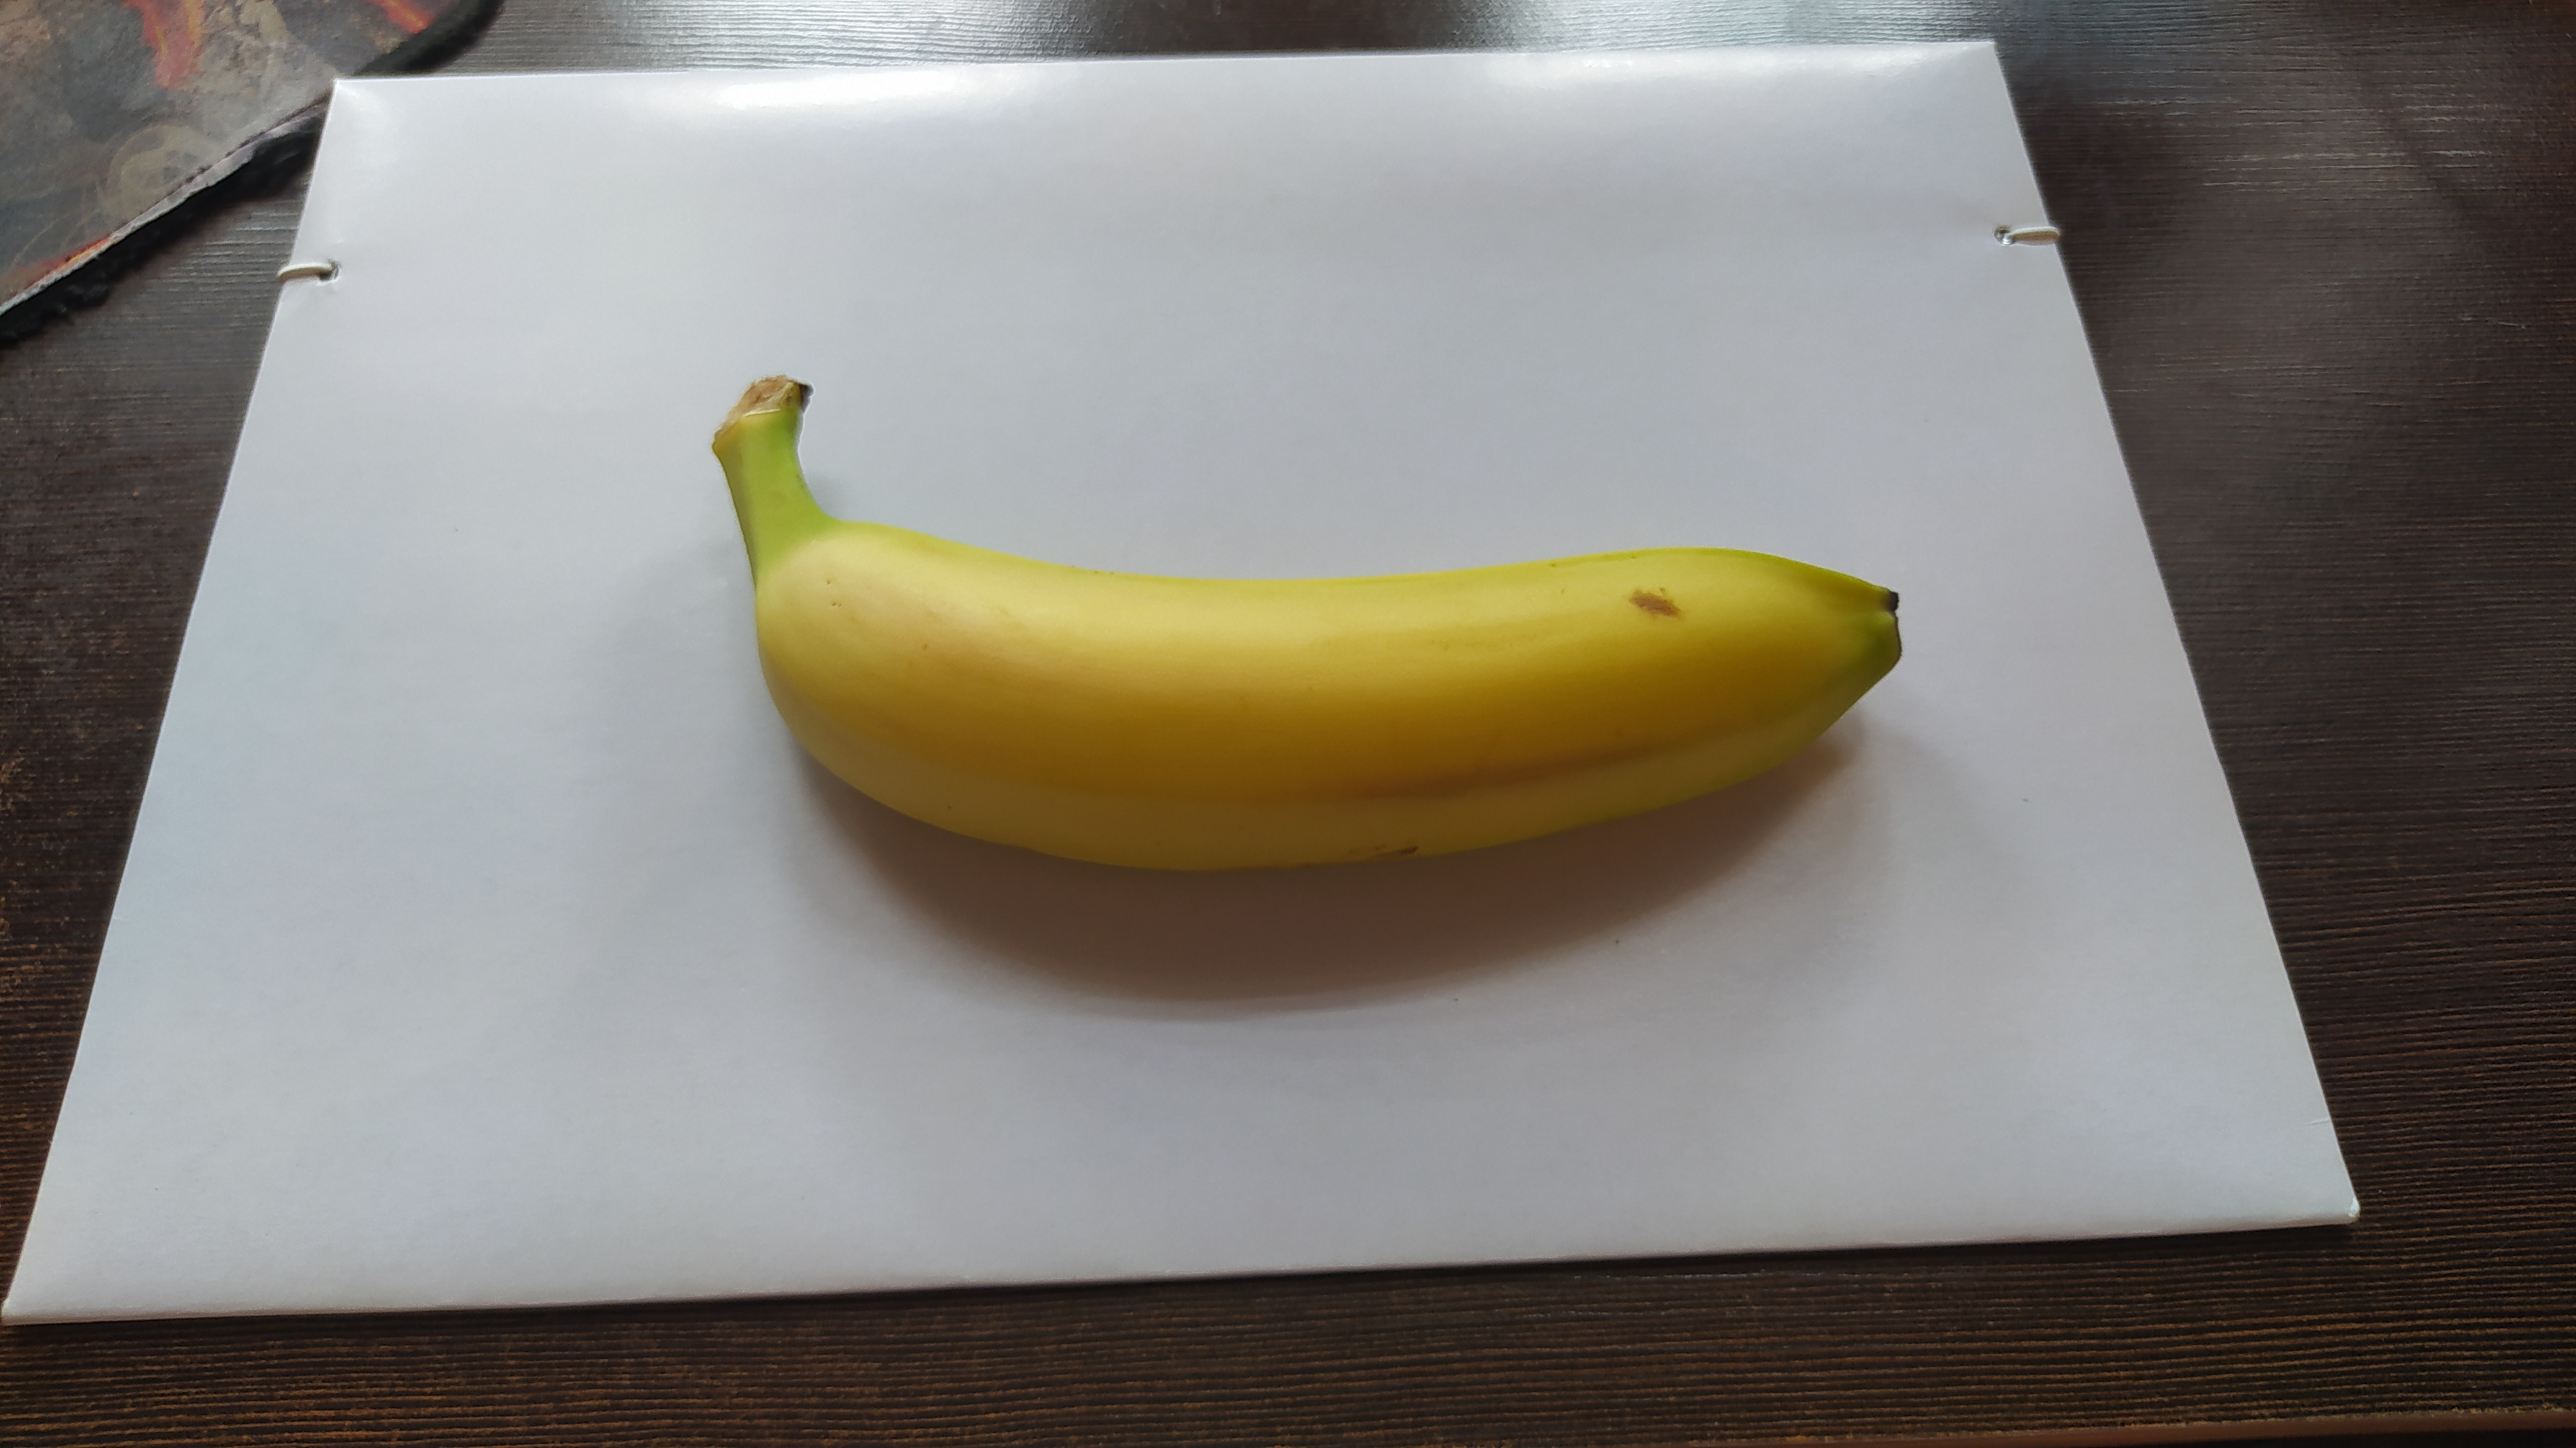banana: (706, 377, 1909, 878)
